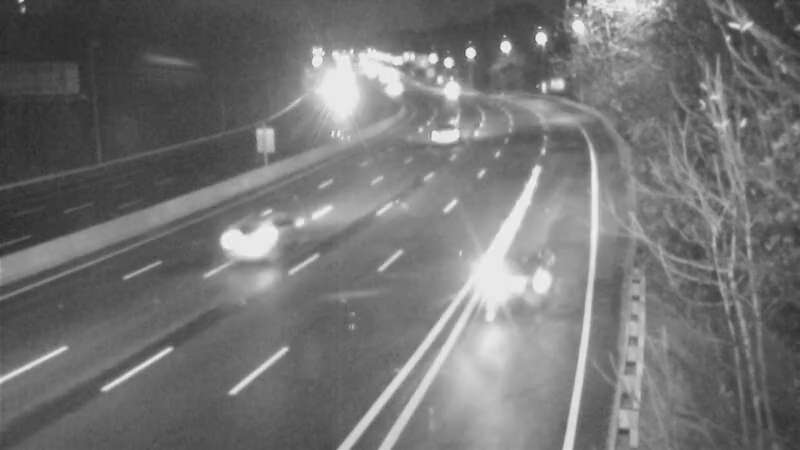vehicle: (487, 245, 567, 325), (227, 195, 307, 275), (423, 68, 473, 118), (418, 101, 468, 151)
